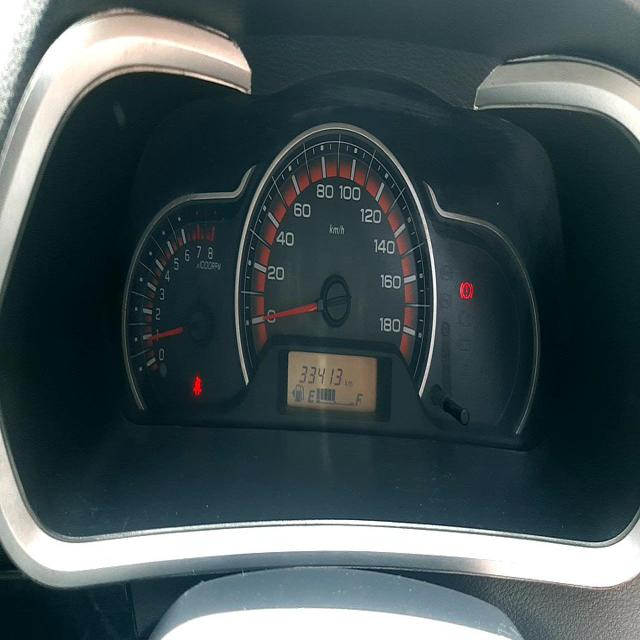odometer: (298, 360, 344, 387)
